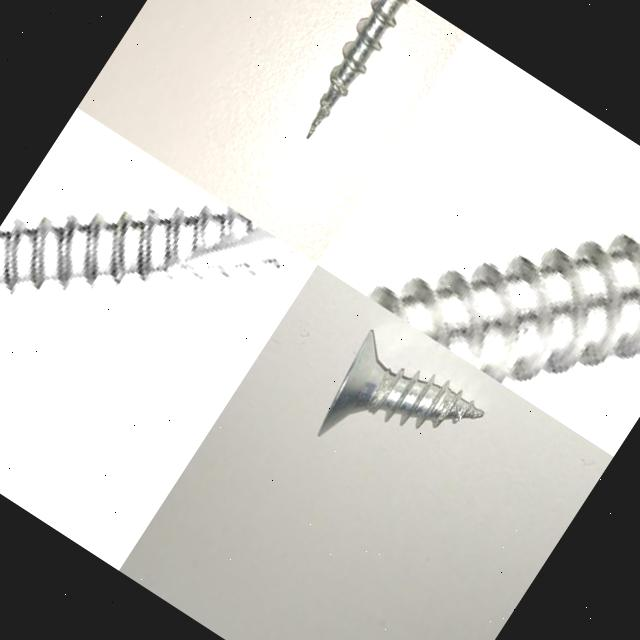Screw: (354, 228, 640, 387), (0, 205, 305, 294), (317, 331, 483, 437), (305, 0, 408, 139)
